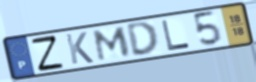5: (191, 8, 224, 49)
D: (125, 20, 161, 57)
K: (64, 30, 96, 66)
L: (159, 19, 192, 52)
M: (92, 25, 133, 63)
Z: (29, 34, 66, 73)
